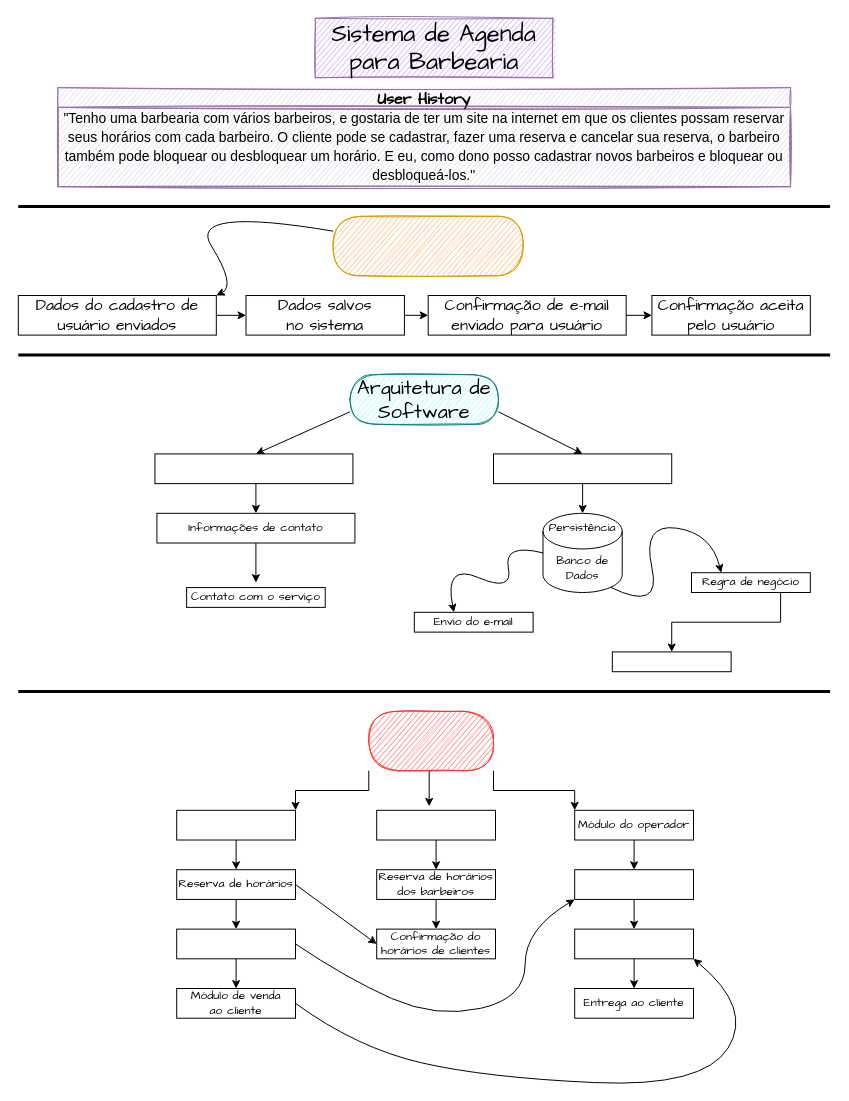
The diagram is 849 pixels wide and 1101 high, and some of its shapes have lost their labels. Here are the shapes that lost their labels. From the top down, the centre of each, then its label:
(x=427, y=245): Processo de módulo de Cadastro
(x=253, y=468): Camada do cliente
(x=582, y=468): Camada de serviço
(x=671, y=661): Contato com cliente
(x=431, y=740): Modelo do Sistema
(x=236, y=824): Interface do usuário
(x=435, y=824): Interface de barbeiros
(x=633, y=884): Produtos fornecidos ao usuário
(x=236, y=943): Apresentação de produtos do salão
(x=633, y=943): Módulo de Compra do fornecedor
